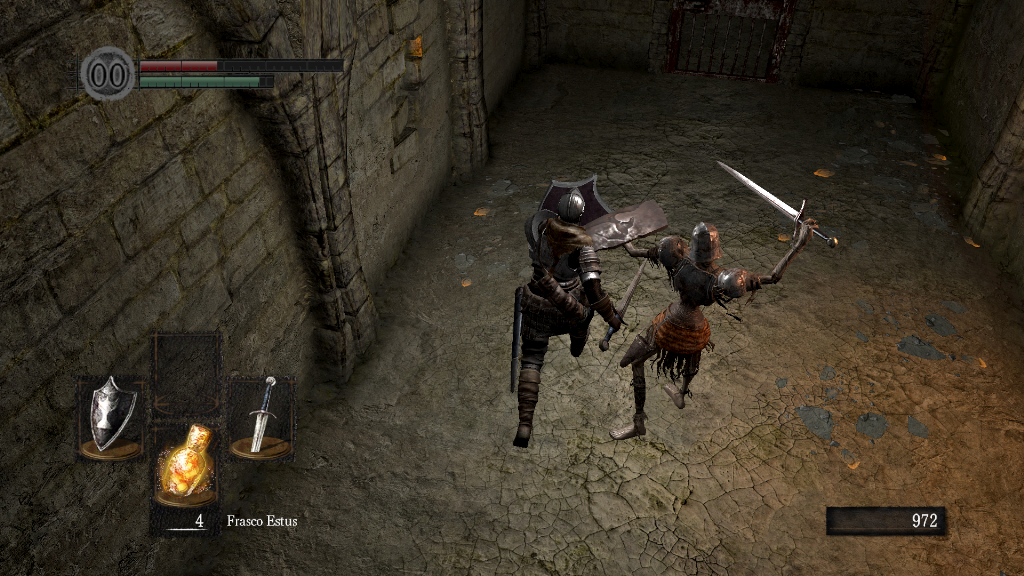health: (138, 58, 343, 71)
humanity: (80, 45, 136, 102)
player: (510, 176, 650, 454)
souls: (825, 506, 945, 536)
stamina: (138, 74, 274, 88)
undeadSoldier: (612, 217, 821, 445)
